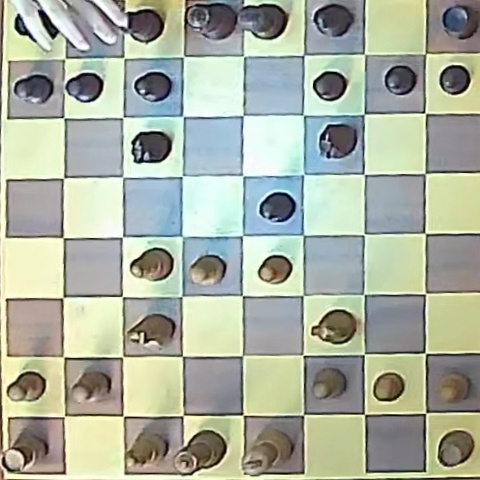black-bishop: (312, 3, 353, 38), (126, 8, 164, 44)
black-king: (237, 3, 285, 40)
black-knight: (318, 124, 356, 158), (131, 131, 171, 163)
black-pawn: (133, 71, 172, 102), (13, 74, 53, 104), (65, 72, 103, 103), (259, 192, 296, 223), (312, 70, 347, 101), (384, 65, 417, 95), (439, 65, 471, 95)
black-queen: (186, 2, 238, 41)
black-rook: (14, 11, 56, 49), (441, 5, 480, 40)
white-bishop: (126, 432, 168, 468), (130, 248, 173, 282)
white-king: (242, 427, 292, 476)
white-knight: (127, 314, 174, 351), (311, 311, 355, 345)
white-pawn: (71, 371, 111, 404), (6, 371, 46, 402), (189, 256, 225, 286), (312, 368, 345, 399), (258, 256, 292, 285), (438, 373, 468, 403), (373, 373, 405, 401)
white-queen: (172, 430, 226, 475)
white-rook: (1, 430, 46, 472), (437, 430, 473, 467)
